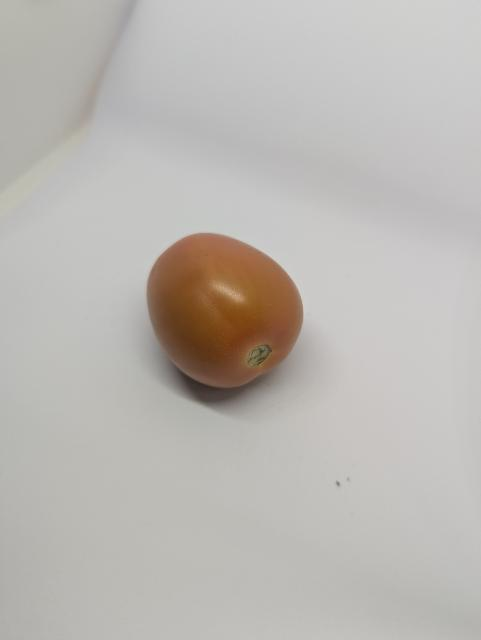turning: (139, 224, 317, 400)
